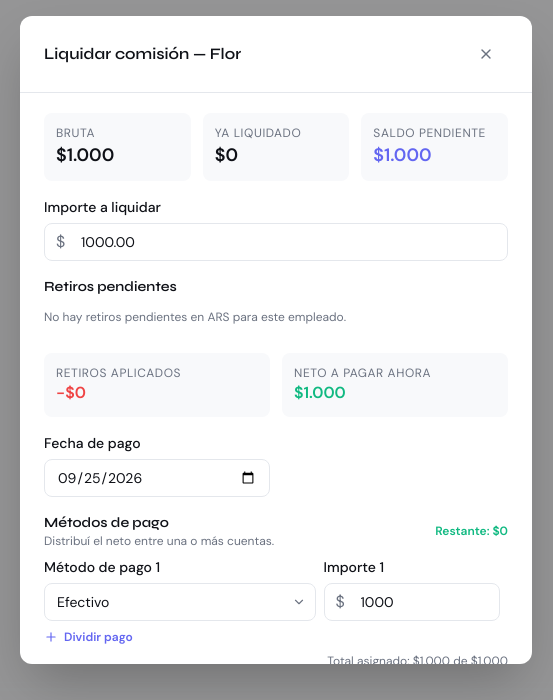
SettleCommissionModal › blocks submission when payment rows do not equal the net amount
Replace the text in the number field labelled "Importe 1" with "900" at [412, 602], box [324,583,500,621]
(page scrolled)
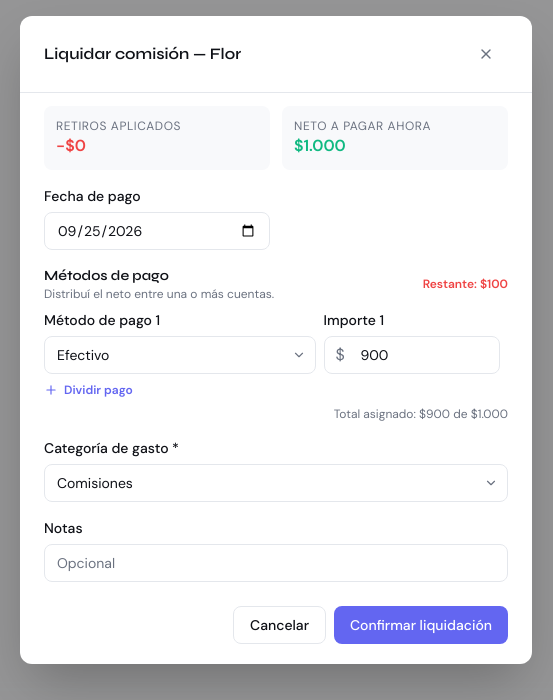
Click the button "Confirmar liquidación" at [421, 625], box [334,606,508,644]
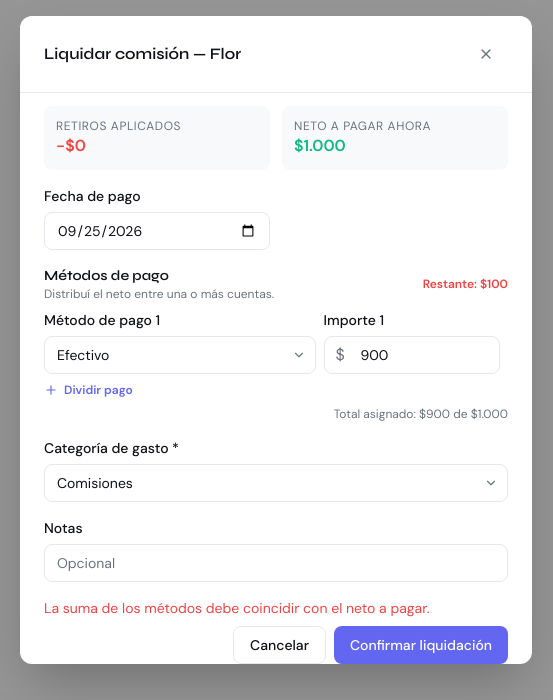
Expected: the text "La suma de los métodos debe coincidir con el neto a pagar." is shown, [44,599,430,617]
